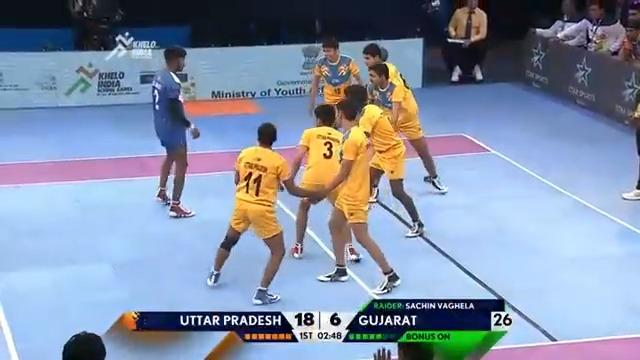Player: (205, 121, 318, 305), (310, 98, 401, 295), (361, 43, 448, 194), (342, 84, 425, 237), (284, 103, 361, 262), (306, 36, 362, 127)
Raider: (150, 45, 200, 218)
referee: (443, 0, 488, 83), (70, 0, 124, 50)
